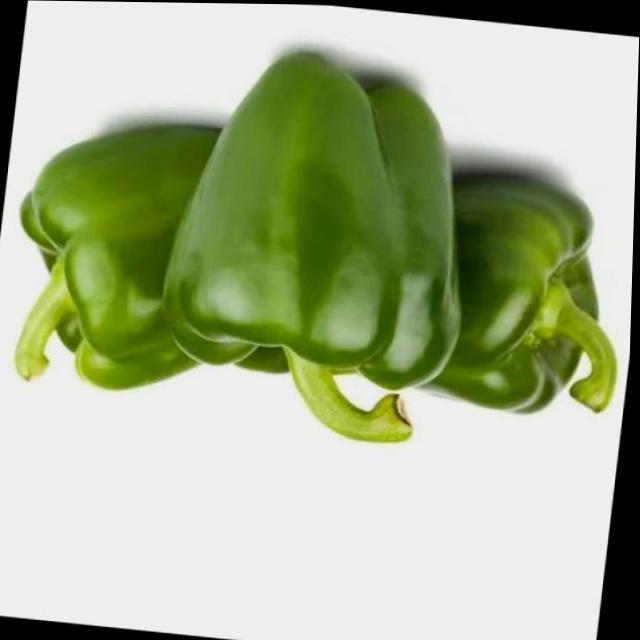Capsicum: (163, 42, 460, 423), (11, 115, 237, 390), (419, 162, 628, 416)
